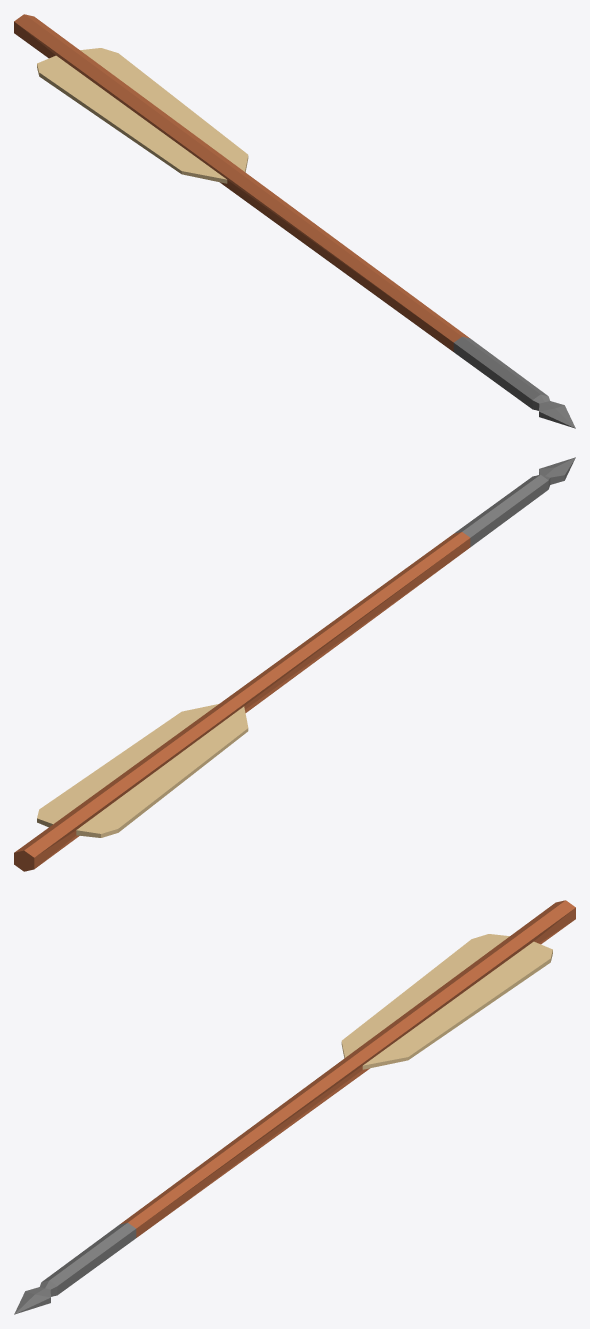
Rendered from Bolt.fbx.
3 renders of one model, top to bottom at view 1: azimuth 30°, elevation 25°; view 2: azimuth 150°, elevation 25°; view 3: azimuth 330°, elevation 25°, orthographic.
Parts seen in each view (by area): view 1: Bolt; view 2: Bolt; view 3: Bolt.
Boxes of the visible parts, x1,y1,x2,y2 form: Bolt: (14,14,575,428); Bolt: (14,457,575,871); Bolt: (14,900,575,1314).
Size of the model in its own units: 10.94 by 2.8 by 132.
